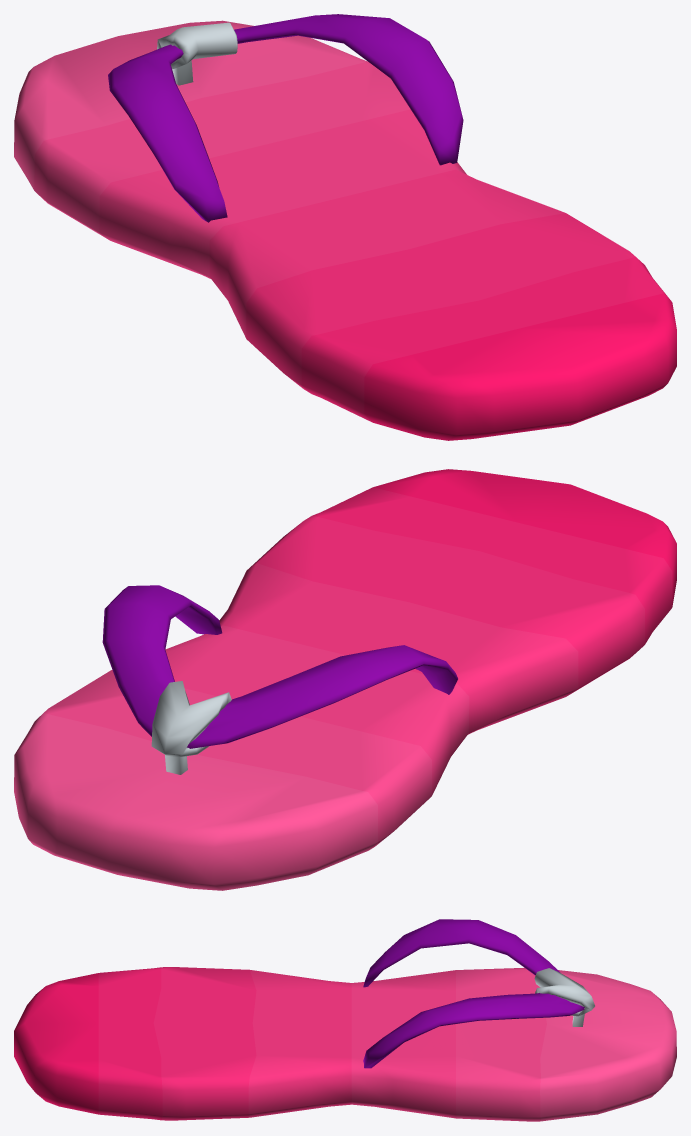
Rendered from slipper.fbx.
3 renders of one model, top to bottom at view 1: azimuth 30°, elevation 25°; view 2: azimuth 150°, elevation 25°; view 3: azimuth 270°, elevation 25°, orthographic. The views are drawn at different scales.
Visible parts, largest first — view 1: slipper; view 2: slipper; view 3: slipper.
Part boxes in pixels (x1,y1,x2,y2): slipper: [14, 14, 676, 440]; slipper: [14, 469, 676, 890]; slipper: [14, 919, 676, 1121].
Size of the model in its own units: 1.32 by 0.5291 by 3.08.
